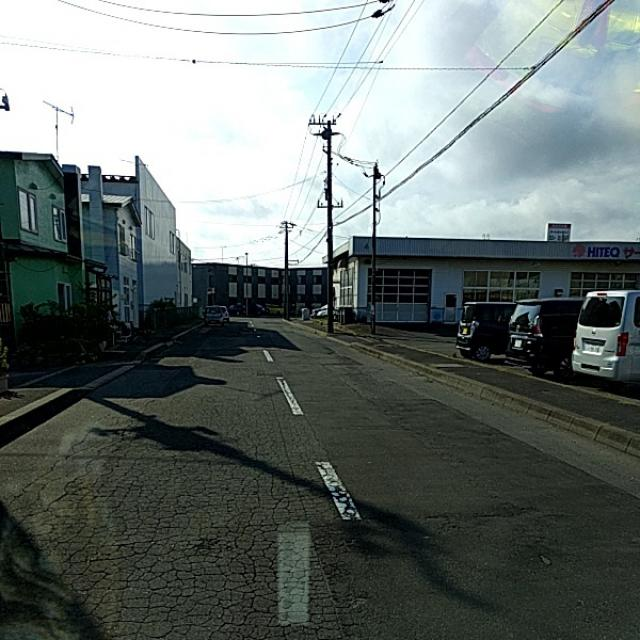pothole: (138, 375, 332, 638)
